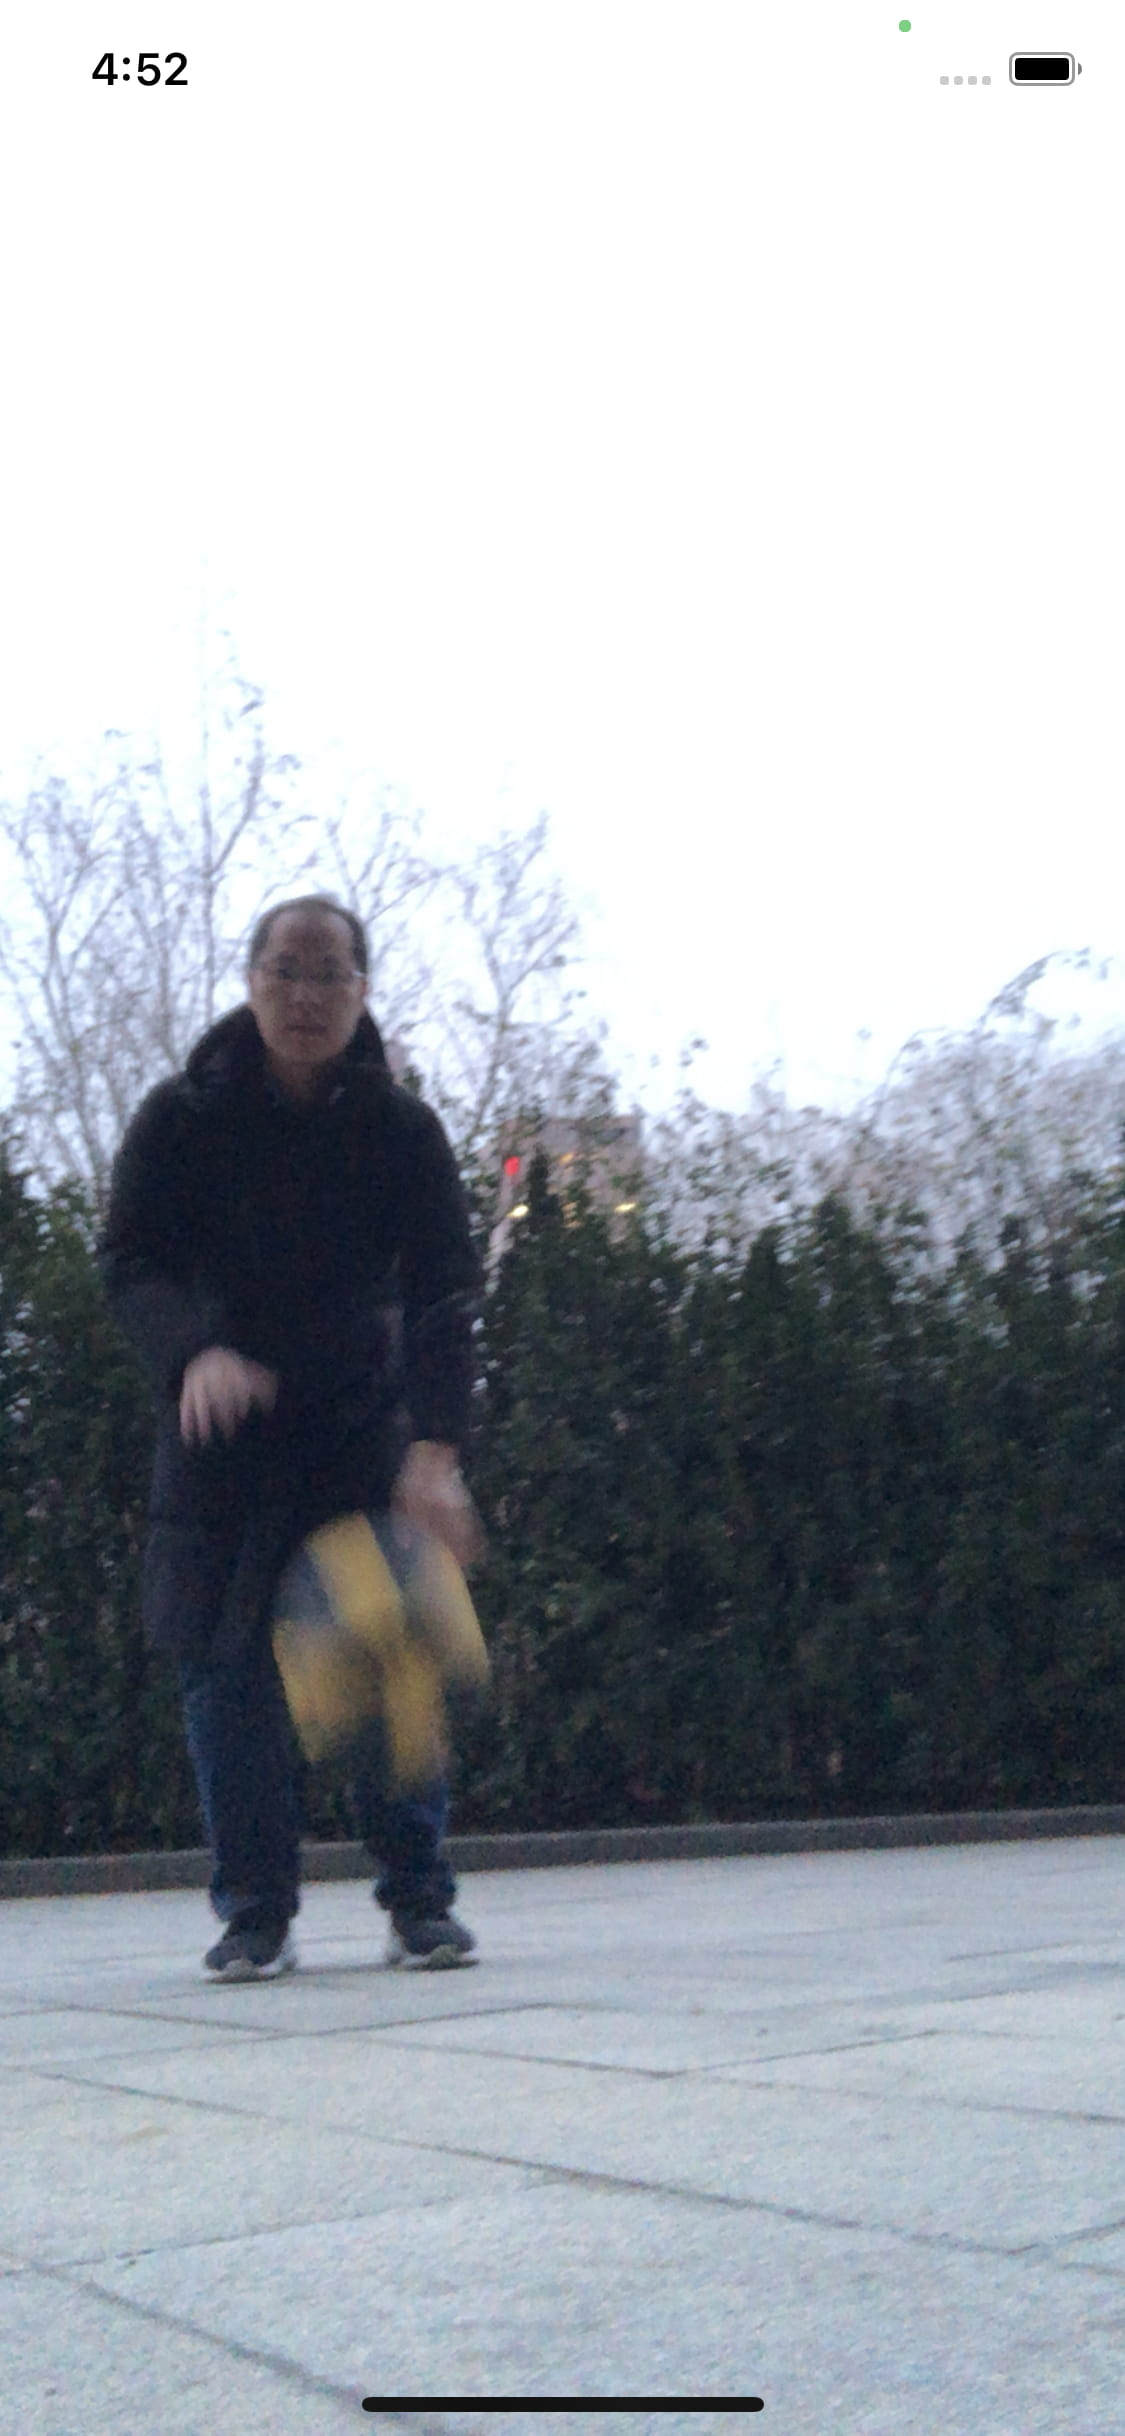ball: (263, 1519, 488, 1780)
